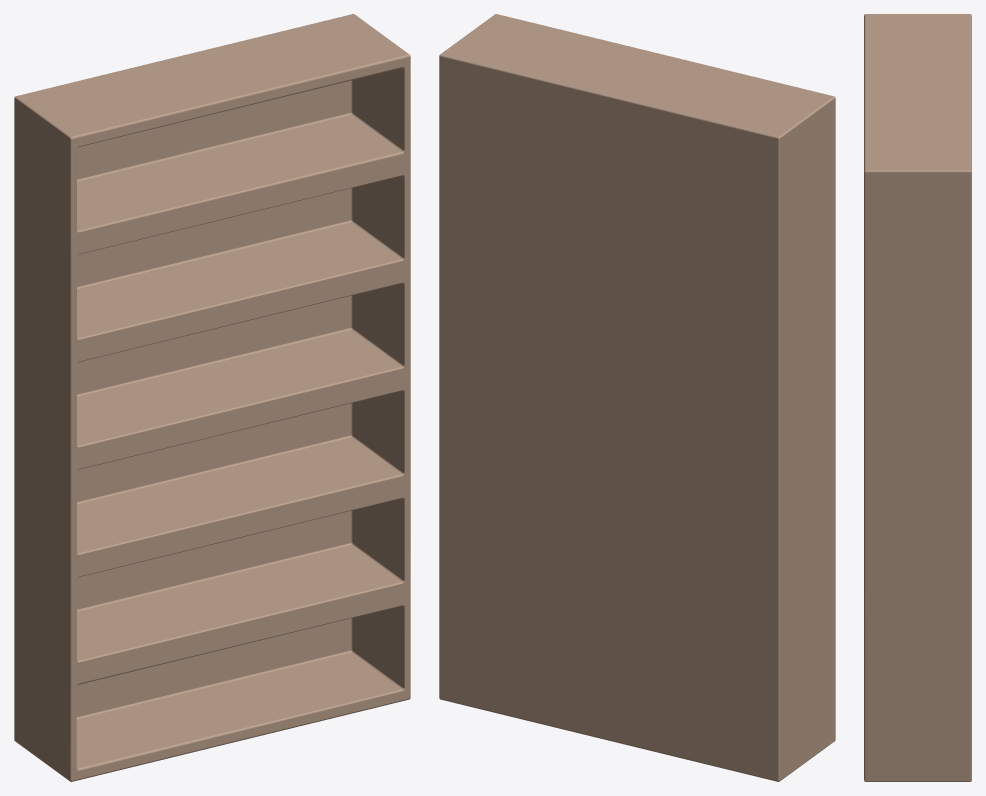
The model's file is Libreria Fix.fbx.
3 views of the same model, side by side, from view 1: azimuth 30°, elevation 25°; view 2: azimuth 150°, elevation 25°; view 3: azimuth 270°, elevation 25° (orthographic). The views are drawn at different scales.
Visible parts, largest first — view 1: libreria; view 2: libreria; view 3: libreria.
Part boxes in pixels (x1,y1,x2,y2): libreria: (14,14,410,781); libreria: (439,14,835,781); libreria: (864,14,971,781).
Size of the model in its own units: 82.88 by 150 by 24.
